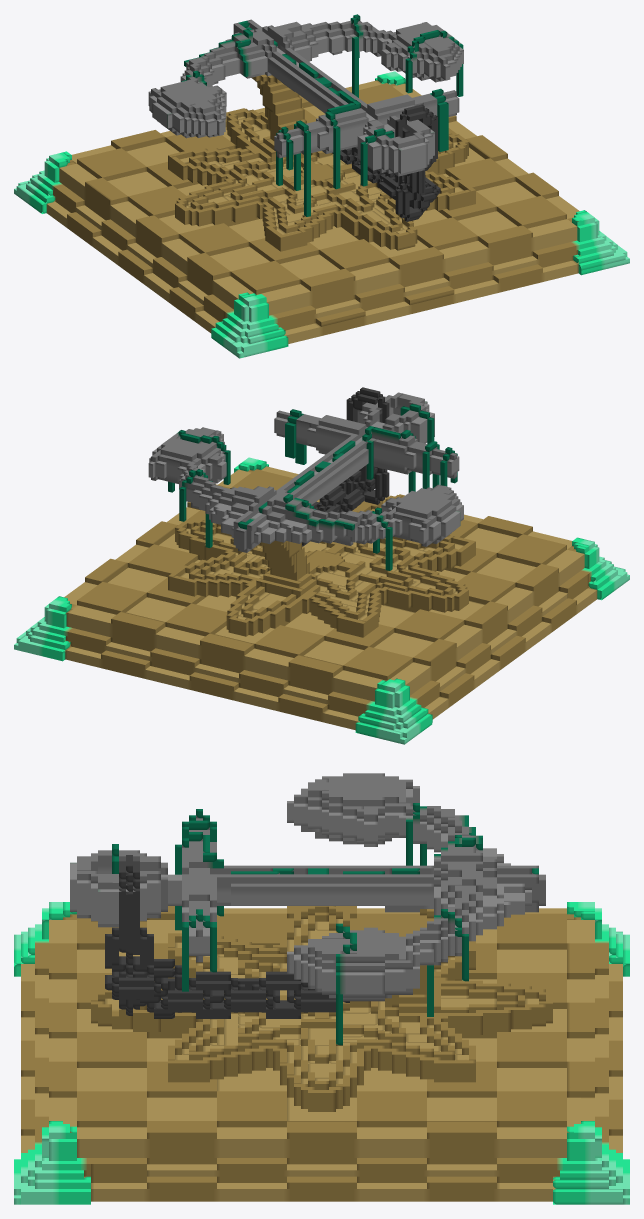
File: Ballesta.dae
The picture shows the model from 3 angles, top to bottom: view 1: azimuth 30°, elevation 25°; view 2: azimuth 150°, elevation 25°; view 3: azimuth 270°, elevation 25°; orthographic projection. The views are drawn at different scales.
Parts seen in each view (by area): view 1: Node (4)-local, Node (2)-local, Node (3)-local, Node (1)-local; view 2: Node (4)-local, Node (2)-local, Node (3)-local, Node (1)-local; view 3: Node (4)-local, Node (2)-local, Node (3)-local, Node (1)-local.
Part boxes in pixels (<box>): Node (4)-local: <box>14,71,629,358</box>; Node (2)-local: <box>148,14,463,216</box>; Node (3)-local: <box>168,74,475,251</box>; Node (1)-local: <box>332,104,440,221</box>; Node (4)-local: <box>14,457,629,744</box>; Node (2)-local: <box>148,392,463,570</box>; Node (3)-local: <box>168,495,475,637</box>; Node (1)-local: <box>302,387,389,546</box>; Node (4)-local: <box>14,902,629,1204</box>; Node (2)-local: <box>70,773,545,1045</box>; Node (3)-local: <box>91,906,552,1111</box>; Node (1)-local: <box>105,855,349,1018</box>.
Bounding box in the file's own units: 88 × 36 × 88.
Materials: 4 (4 with a texture image).
